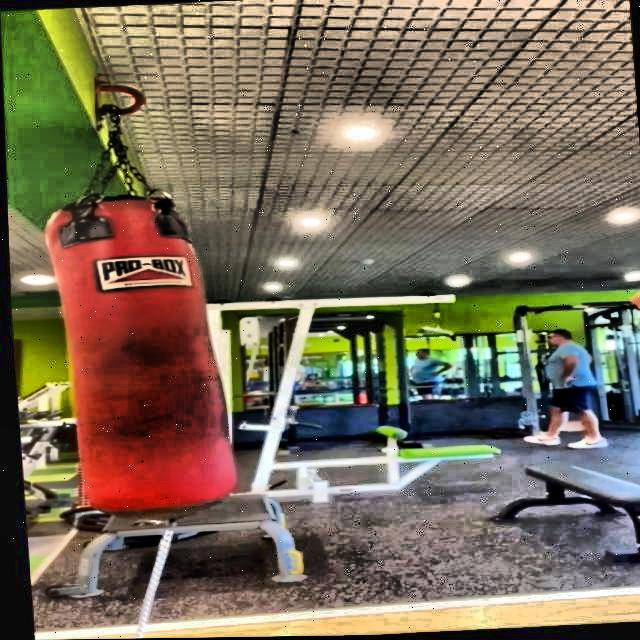boxing-bag: (34, 88, 228, 530)
